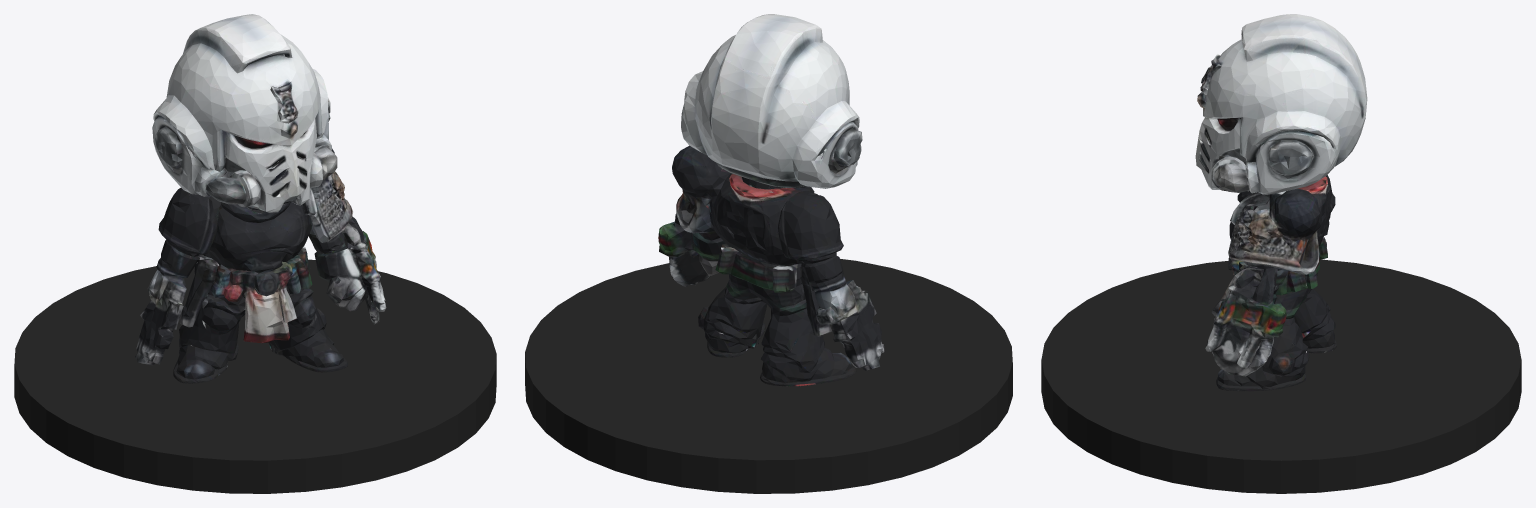
The model's file is apothecary-krenn.glb.
3 views of the same model, side by side, from view 1: azimuth 30°, elevation 25°; view 2: azimuth 150°, elevation 25°; view 3: azimuth 270°, elevation 25° (orthographic).
Parts seen in each view (by area): view 1: base, figure; view 2: base, figure; view 3: base, figure.
Part boxes in pixels (box(x1,y1,x2,y2)): base: box(14, 259, 496, 493); figure: box(135, 14, 386, 383); base: box(525, 259, 1012, 493); figure: box(658, 14, 885, 386); base: box(1041, 259, 1521, 493); figure: box(1195, 14, 1367, 391).
Bounding box in the file's own units: 1.57 × 1.32 × 1.57.
2 materials, 1 textured.
